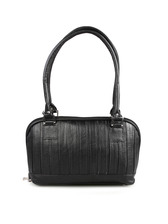bag: (19, 25, 145, 190)
